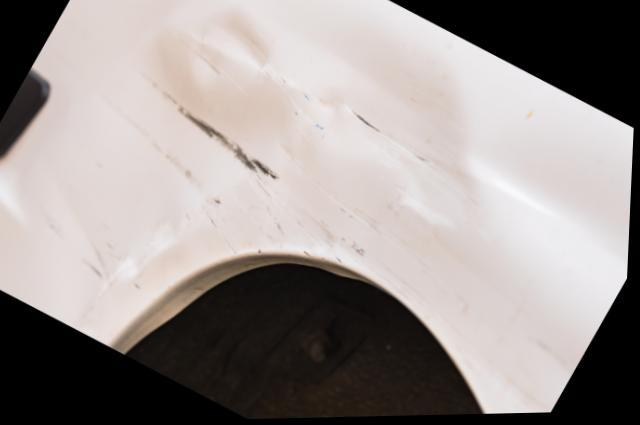dent: (54, 0, 481, 277)
scratch: (207, 160, 468, 329)
